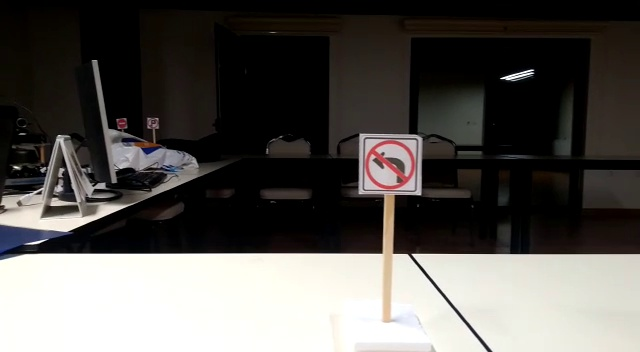sola_donulmez: (364, 140, 417, 189)
